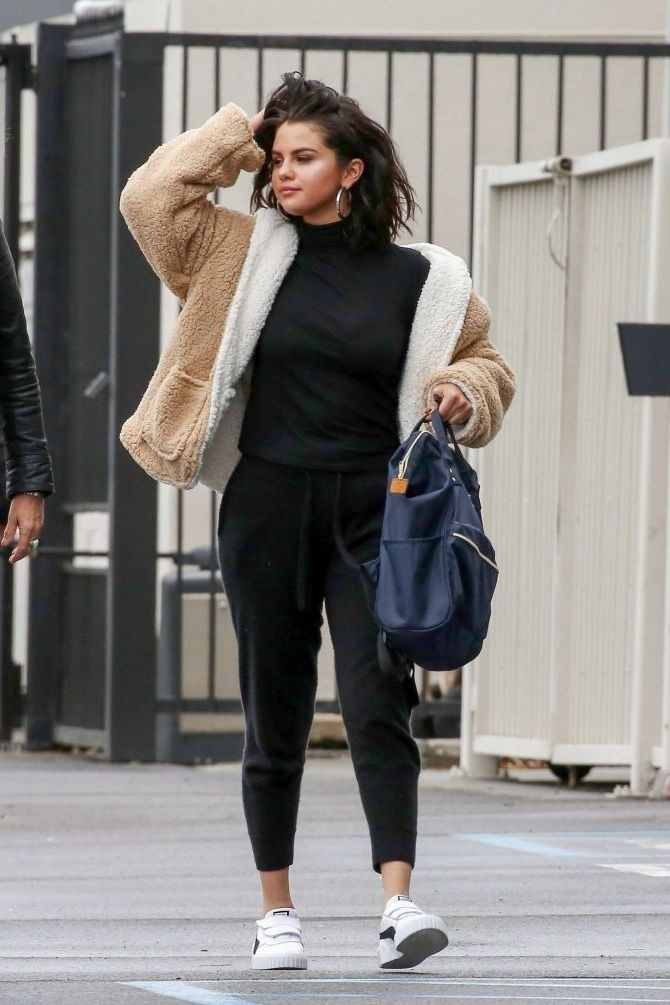face_no_mask: (263, 108, 370, 224)
